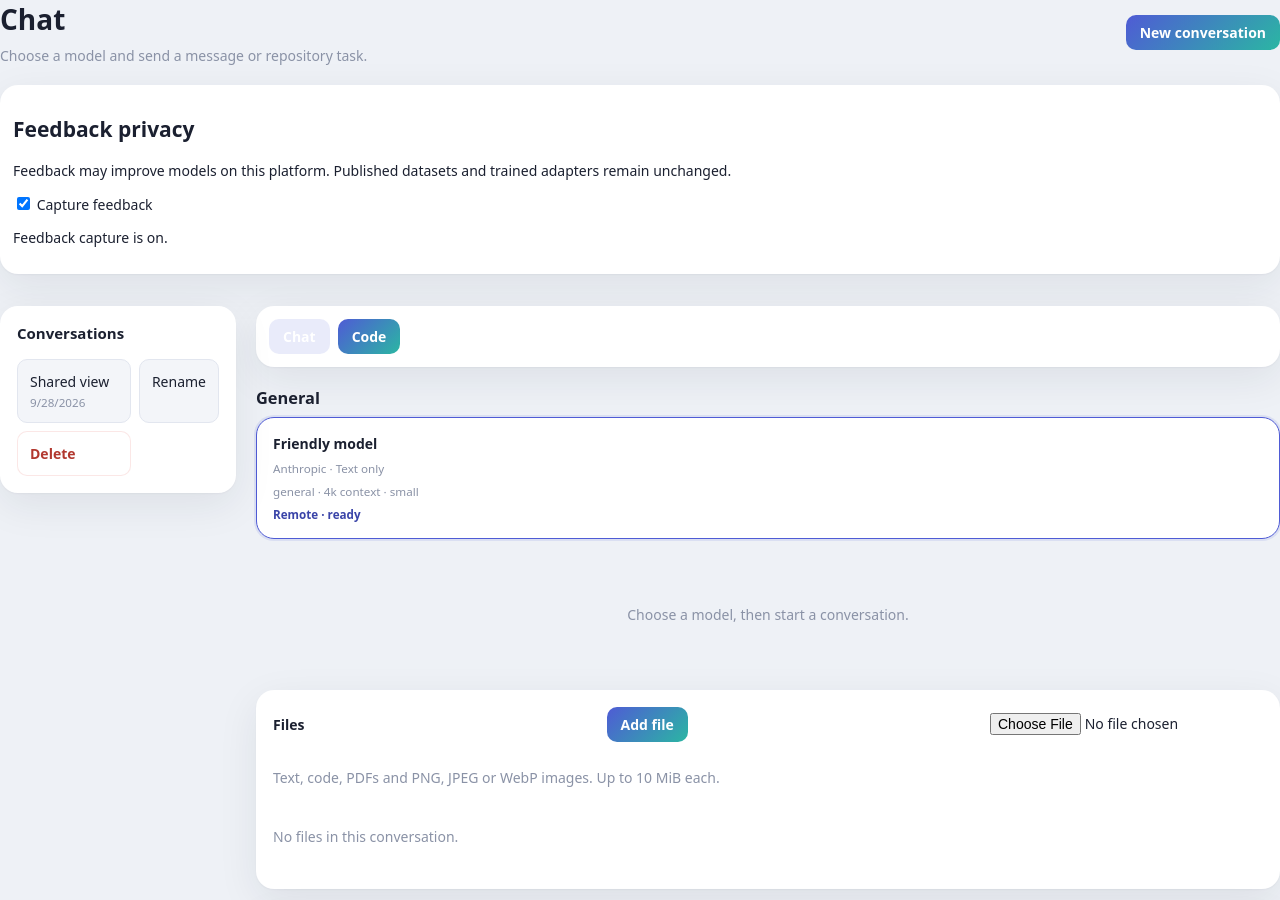
Scenario: a selected viewing tab reconciles another tab's saved turn without a POST
Click the button "Shared view 9/28/2026" at (74, 391), box [17,359,131,423]
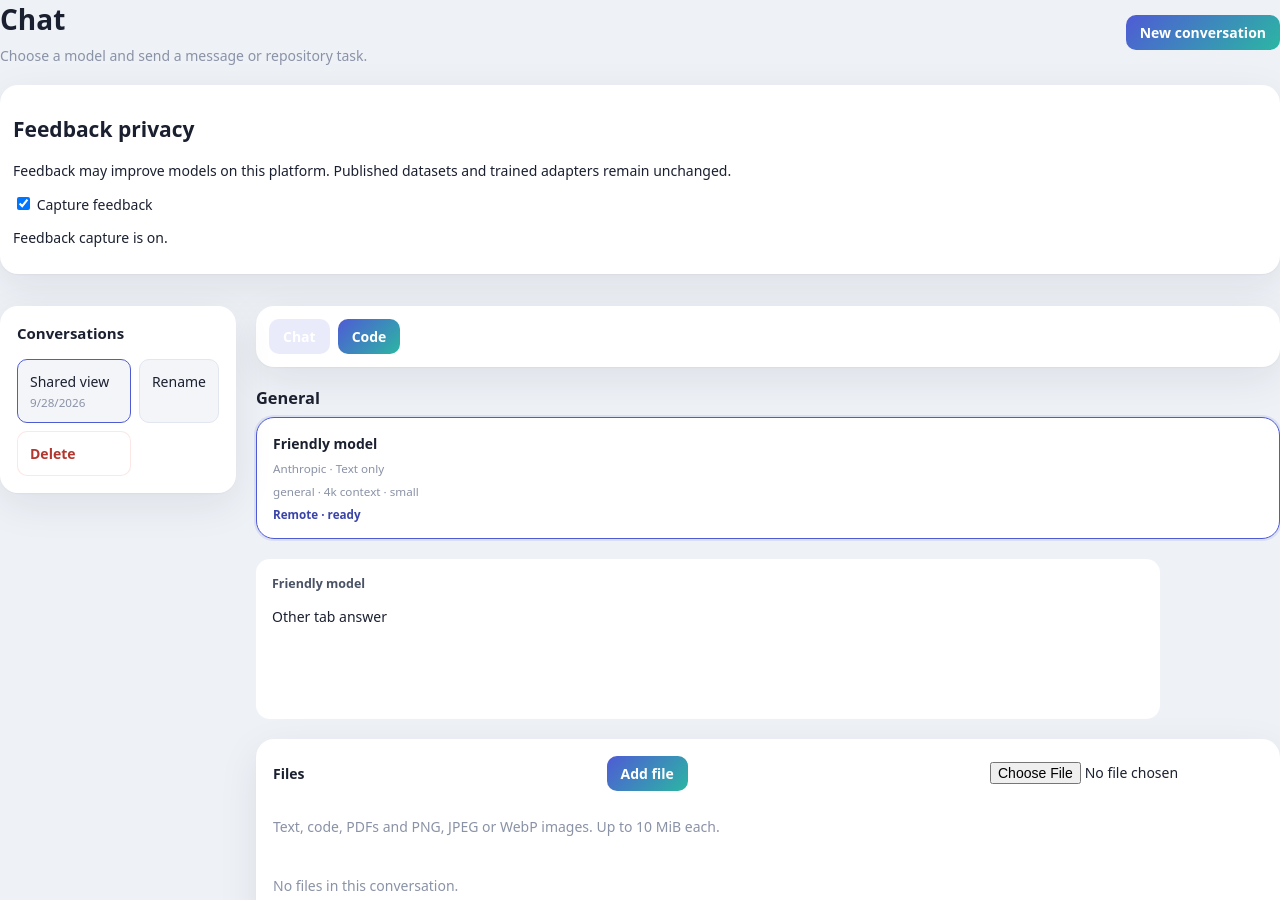
Expected: the text "Other tab answer" is shown, [272,607,387,626]
